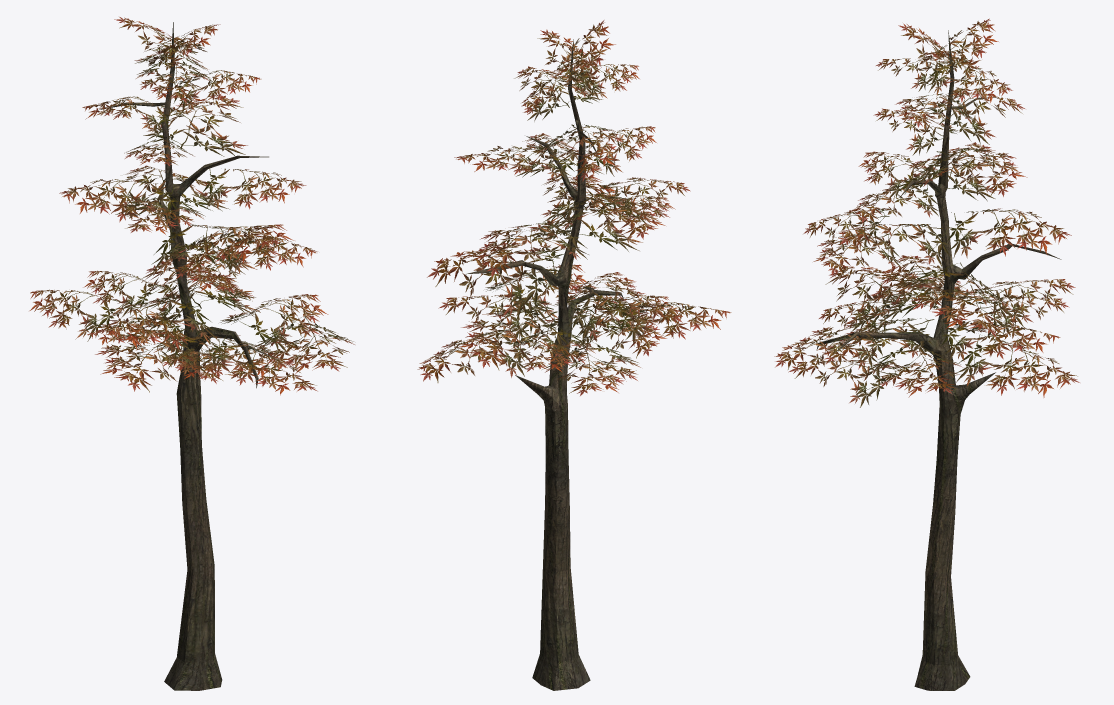
The model's file is bg_anh_tree_mapletree01c_sm_ysi.FBX.
3 renders of one model, left to right at view 1: azimuth 30°, elevation 25°; view 2: azimuth 150°, elevation 25°; view 3: azimuth 270°, elevation 25°, orthographic. The views are drawn at different scales.
Visible parts, largest first — view 1: bg_anh_tree_mapletree01c_sm_ysi; view 2: bg_anh_tree_mapletree01c_sm_ysi; view 3: bg_anh_tree_mapletree01c_sm_ysi.
Boxes of the visible parts, bbox=[...] form: bg_anh_tree_mapletree01c_sm_ysi: bbox=[29, 17, 354, 690]; bg_anh_tree_mapletree01c_sm_ysi: bbox=[417, 20, 731, 690]; bg_anh_tree_mapletree01c_sm_ysi: bbox=[774, 18, 1079, 690].
Size of the model in its own units: 211 by 492 by 229.
